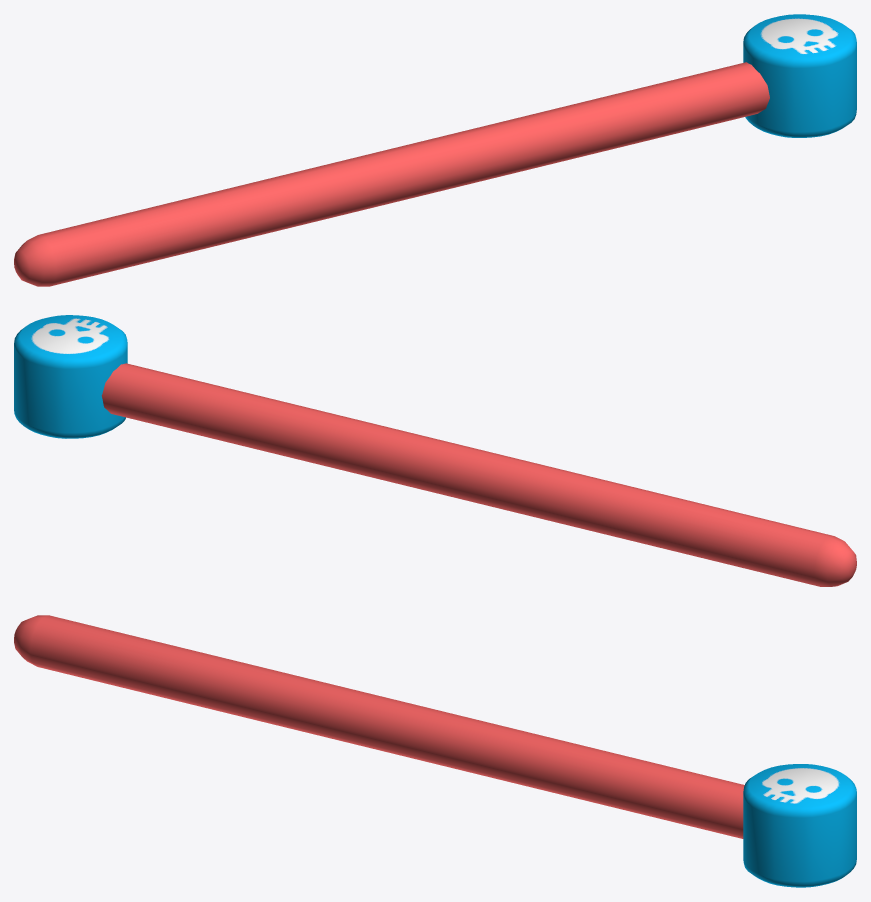
The model's file is stick_1_3.FBX.
3 renders of one model, top to bottom at view 1: azimuth 30°, elevation 25°; view 2: azimuth 150°, elevation 25°; view 3: azimuth 330°, elevation 25°, orthographic.
Visible parts, largest first — view 1: stick_1_3; view 2: stick_1_3; view 3: stick_1_3.
Part boxes in pixels (box(x1,y1,x2,y2)): stick_1_3: box(14, 14, 856, 286); stick_1_3: box(14, 315, 856, 586); stick_1_3: box(14, 615, 856, 887).
Bounding box in the file's own units: 12.56 × 1.16 × 1.49.
1 material, 1 textured.
